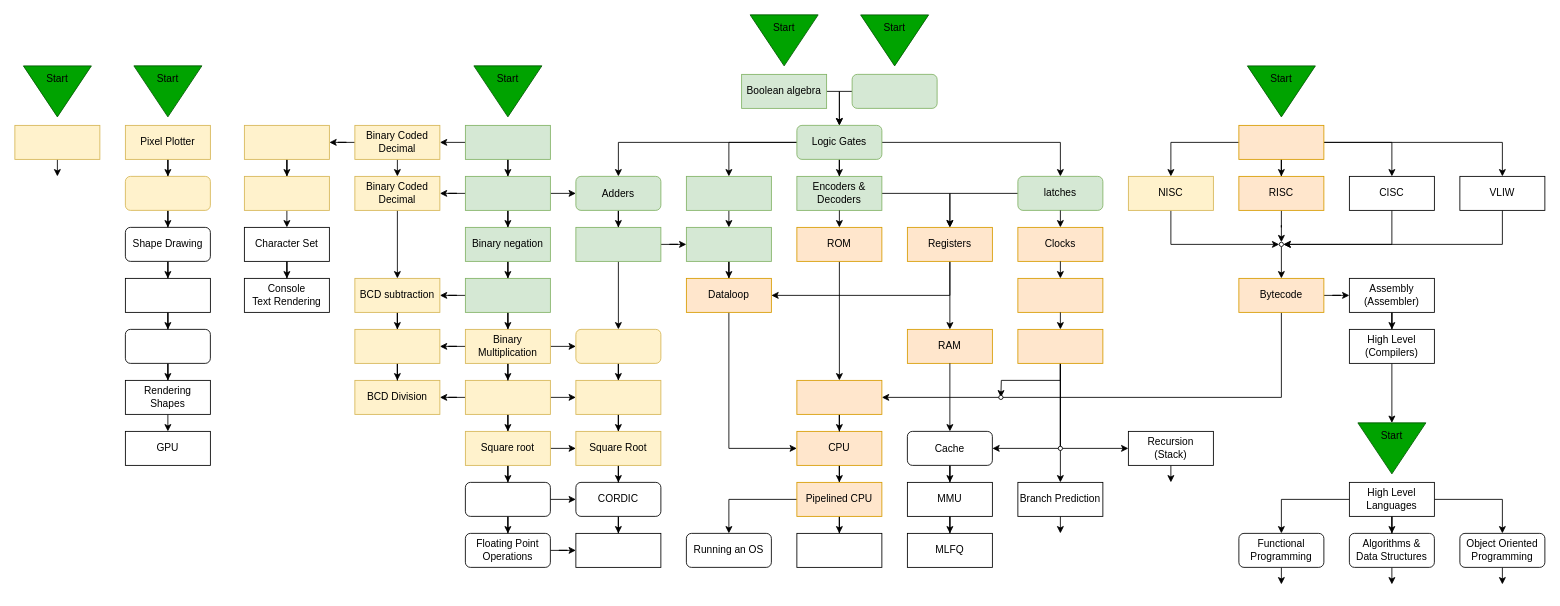
This 1560x606 diagram has some shape labels left out. The centre of each missing label's shape, as x and y in pixels:
3D to 2D Projectors: point (167, 346)
7 Segment Display: point (286, 193)
ALU: point (728, 244)
BCD Multiplication: point (397, 346)
Binary: point (507, 142)
Binary addition: point (507, 193)
Binary Division: point (507, 397)
Binary subtraction: point (507, 295)
Bitwise Logic: point (728, 193)
Counters: point (1060, 295)
Divider: point (618, 397)
Double Dabble: point (286, 142)
Floating Point Unit: point (618, 550)
Game Mechanics: point (894, 91)
ISA: point (1281, 142)
Line Drawer: point (167, 193)
Multiplier: point (618, 346)
Out of Order CPU: point (839, 550)
PMEM: point (839, 397)
Program Counter: point (1060, 346)
Serial: point (57, 142)
Shift & Add: point (507, 499)
Simple GPU: point (167, 295)
Subtractor: point (618, 244)
